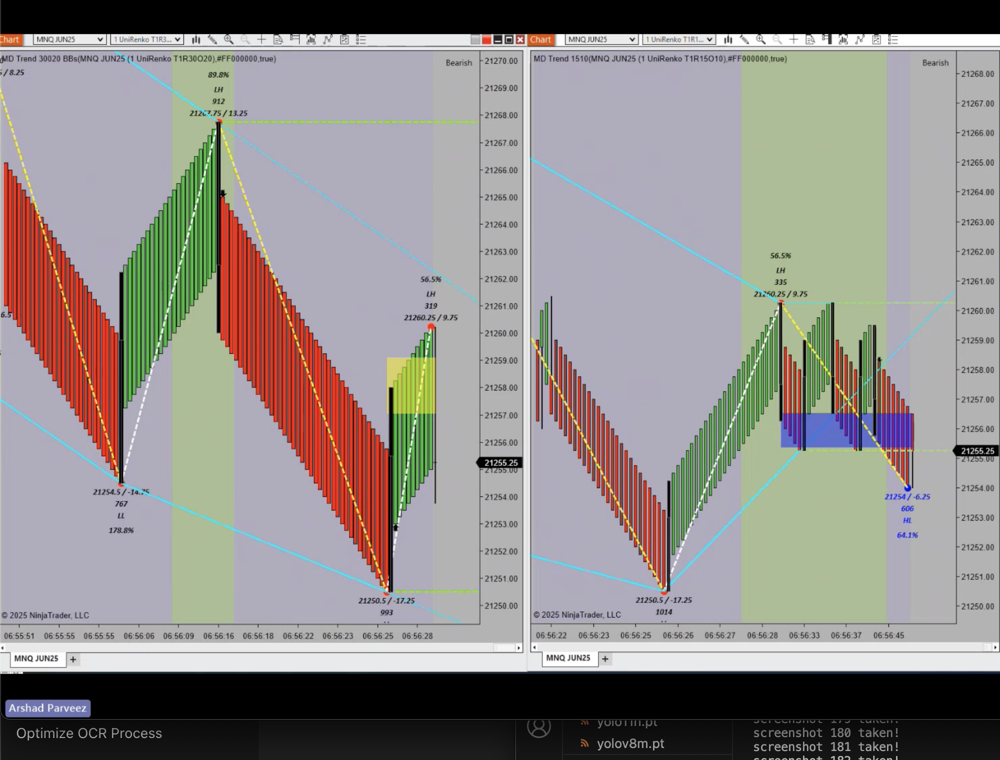HL: (897, 511, 921, 531)
LH: (420, 285, 447, 305), (769, 264, 795, 283), (208, 82, 234, 100)
LL: (113, 503, 133, 524)
